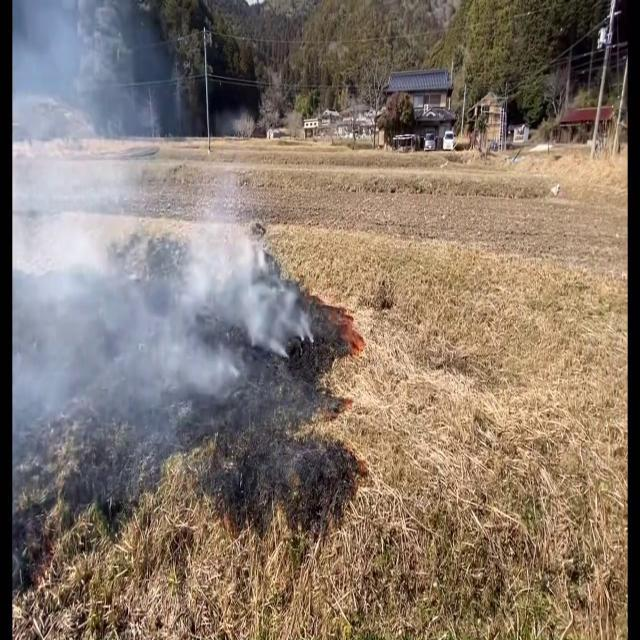Smoke: (13, 1, 310, 516)
